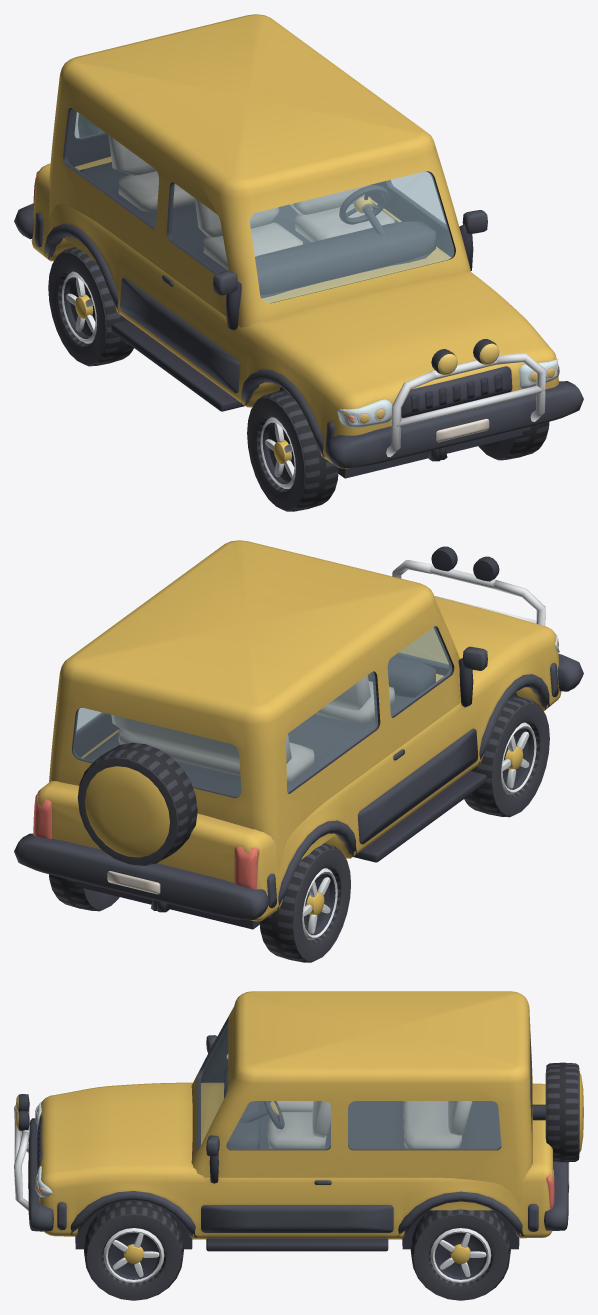
File: trailmark.glb
3 views of the same model, one above another, from view 1: azimuth 30°, elevation 25°; view 2: azimuth 150°, elevation 25°; view 3: azimuth 270°, elevation 25° (orthographic). The views are drawn at different scales.
Parts seen in each view (by area): view 1: 1990s-off-roader_body, 1990s-off-roader_windows, 1990s-off-roader_wheel_fr, 1990s-off-roader_wheel_rr, 1990s-off-roader_wheel_fl, 1990s-off-roader_fog_lights; view 2: 1990s-off-roader_body, 1990s-off-roader_windows, 1990s-off-roader_spare_tyre, 1990s-off-roader_wheel_rr, 1990s-off-roader_wheel_fr, 1990s-off-roader_wheel_rl, 1990s-off-roader_fog_lights; view 3: 1990s-off-roader_body, 1990s-off-roader_windows, 1990s-off-roader_wheel_fl, 1990s-off-roader_wheel_rl, 1990s-off-roader_spare_tyre, 1990s-off-roader_fog_lights.
Part boxes in pixels (x1=…): 1990s-off-roader_body: x1=14, y1=14, x2=583, y2=478; 1990s-off-roader_windows: x1=65, y1=108, x2=454, y2=303; 1990s-off-roader_wheel_fr: x1=247, y1=390, x2=338, y2=511; 1990s-off-roader_wheel_rr: x1=48, y1=247, x2=133, y2=366; 1990s-off-roader_wheel_fl: x1=478, y1=422, x2=549, y2=460; 1990s-off-roader_fog_lights: x1=431, y1=339, x2=499, y2=374; 1990s-off-roader_body: x1=14, y1=540, x2=583, y2=929; 1990s-off-roader_windows: x1=73, y1=626, x2=451, y2=796; 1990s-off-roader_spare_tyre: x1=77, y1=742, x2=197, y2=865; 1990s-off-roader_wheel_rr: x1=260, y1=843, x2=350, y2=962; 1990s-off-roader_wheel_fr: x1=464, y1=695, x2=549, y2=817; 1990s-off-roader_wheel_rl: x1=49, y1=874, x2=119, y2=911; 1990s-off-roader_fog_lights: x1=431, y1=546, x2=499, y2=581; 1990s-off-roader_body: x1=14, y1=991, x2=569, y2=1251; 1990s-off-roader_windows: x1=199, y1=1023, x2=500, y2=1149; 1990s-off-roader_wheel_fl: x1=84, y1=1201, x2=183, y2=1300; 1990s-off-roader_wheel_rl: x1=410, y1=1209, x2=510, y2=1300; 1990s-off-roader_spare_tyre: x1=532, y1=1062, x2=583, y2=1162; 1990s-off-roader_fog_lights: x1=16, y1=1094, x2=29, y2=1130.
Size of the model in its own units: 1.95 by 1.87 by 4.32.
26 materials, 6 textured.
